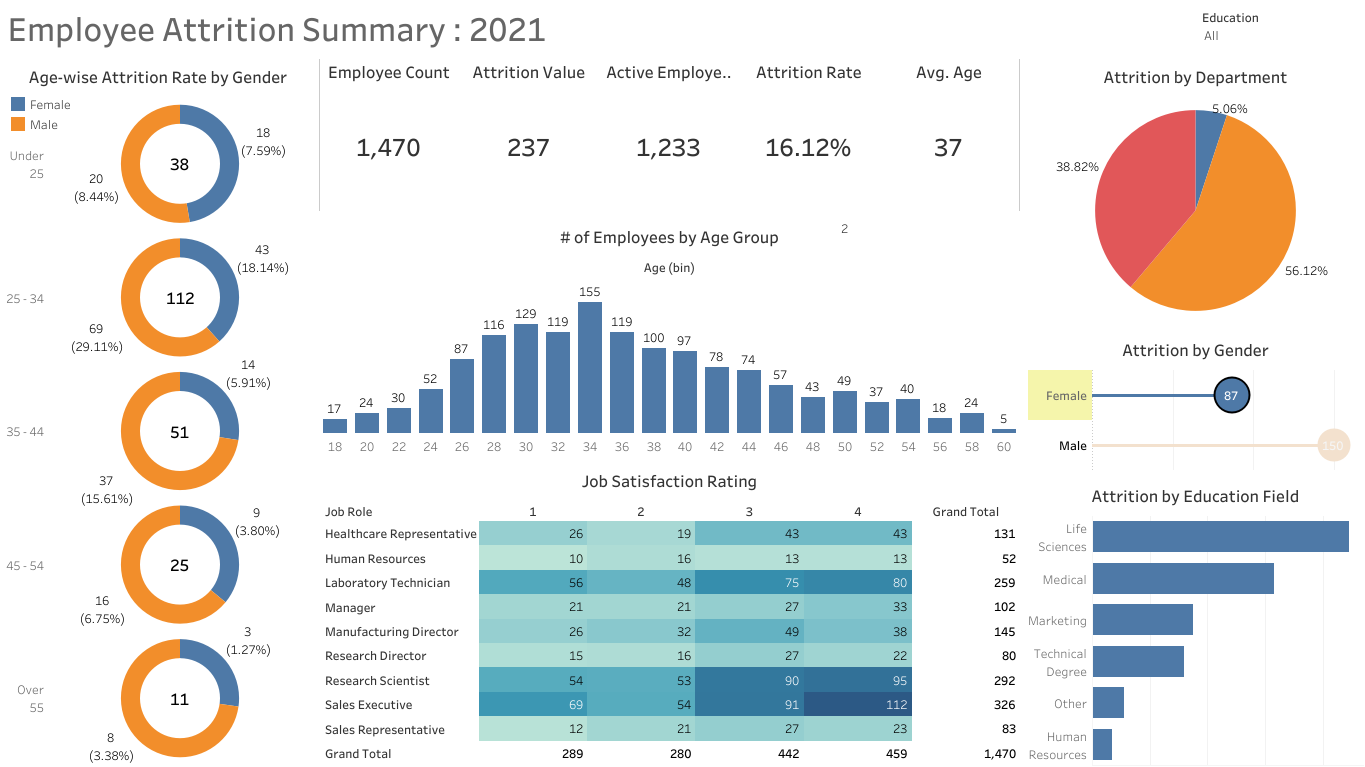

The dashboard page shown, as its layout file describes it:
{"tool":"tableau","page":{"name":"Dashboard 1","canvas":[1366,768],"ordinal":0},"visuals":[{"type":"text","box":[1,1,1366,54]},{"type":"filter","title":"Age-wise Attrition Rate by Gender","param":"[federated.1mmw4ly0tc09ff1d5ewi205nb8ws].[none:Education:nk]","box":[1202,7,160,44]},{"type":"worksheet","title":"Age-wise Attrition Rate by Gender","mark":"Pie","rows":["CF_age band"],"cols":["Calculation_890305403833966596","Calculation_890305403833995270"],"box":[1,55,314,714]},{"type":"worksheet","title":"KPI","mark":"Automatic","box":[315,55,709,160]},{"type":"worksheet","title":"Attrition by Department","mark":"Pie","box":[1024,55,343,273]},{"type":"legend","title":"Age-wise Attrition Rate by Gender","param":"[federated.1mmw4ly0tc09ff1d5ewi205nb8ws].[none:Gender:nk]","box":[8,94,75,47]},{"type":"worksheet","title":"# of Employees by Age Group","mark":"Automatic","rows":["Employee Count"],"cols":["Age (bin)"],"box":[315,215,709,244]},{"type":"parameter","param":"[Parameters].[Parameter 1]","box":[839,219,160,67]},{"type":"worksheet","title":"Attrition by Gender","mark":"Automatic","rows":["Gender"],"cols":["Calculation_890305403822469120","Calculation_890305403822469120"],"box":[1024,328,343,145.8]},{"type":"worksheet","title":"Job Satisfaction Rating","mark":"Square","rows":["Job Role"],"cols":["Job Satisfaction"],"box":[315,459,709,310]},{"type":"worksheet","title":"Attrition by Education Field","mark":"Automatic","rows":["Education Field"],"cols":["Calculation_890305403822469120"],"box":[1024,473.8,343,295.2]}]}

Visuals, with their boxes in screenshot pixels (x1, y1, x2, y2), scaled from the page's 1366x768 canvas onto the 1365x767 screenshot:
text: (1, 1, 1364, 55)
"Age-wise Attrition Rate by Gender" filter: (1201, 7, 1361, 51)
"Age-wise Attrition Rate by Gender" worksheet (Pie marks): (1, 55, 315, 766)
"KPI" worksheet: (315, 55, 1023, 215)
"Attrition by Department" worksheet (Pie marks): (1023, 55, 1364, 328)
"Age-wise Attrition Rate by Gender" legend: (8, 94, 83, 141)
"# of Employees by Age Group" worksheet: (315, 215, 1023, 458)
parameter: (838, 219, 998, 286)
"Attrition by Gender" worksheet: (1023, 328, 1364, 473)
"Job Satisfaction Rating" worksheet (Square marks): (315, 458, 1023, 766)
"Attrition by Education Field" worksheet: (1023, 473, 1364, 766)
